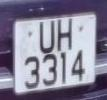1: (58, 51, 71, 88)
3: (22, 54, 43, 92), (41, 53, 60, 89)
4: (69, 47, 87, 88)
H: (56, 13, 75, 55)
U: (37, 16, 58, 57)
